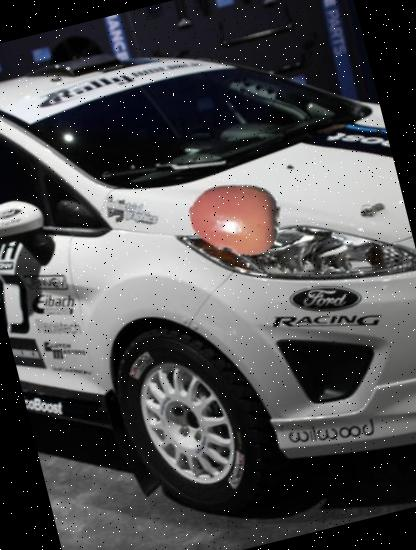Kaki: (180, 160, 292, 272)
